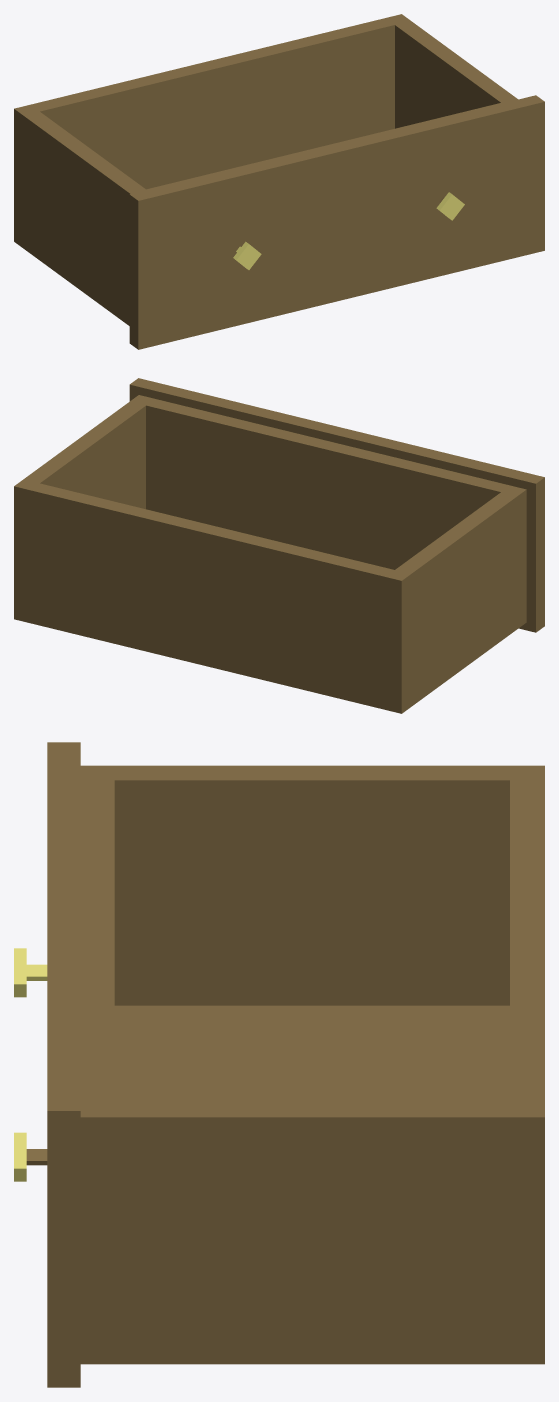
File: Itr_Wardrobe3_Drawer_01.FBX
The picture shows the model from 3 angles, top to bottom: view 1: azimuth 30°, elevation 25°; view 2: azimuth 150°, elevation 25°; view 3: azimuth 270°, elevation 25°; orthographic projection. The views are drawn at different scales.
Visible parts, largest first — view 1: Itr_Wardrobe3_Drawer_01; view 2: Itr_Wardrobe3_Drawer_01; view 3: Itr_Wardrobe3_Drawer_01.
Part boxes in pixels (<box>): Itr_Wardrobe3_Drawer_01: <box>14,14,544,349</box>; Itr_Wardrobe3_Drawer_01: <box>14,378,544,713</box>; Itr_Wardrobe3_Drawer_01: <box>14,742,544,1387</box>.
Bounding box in the file's own units: 40.83 × 14.3 × 24.85.
